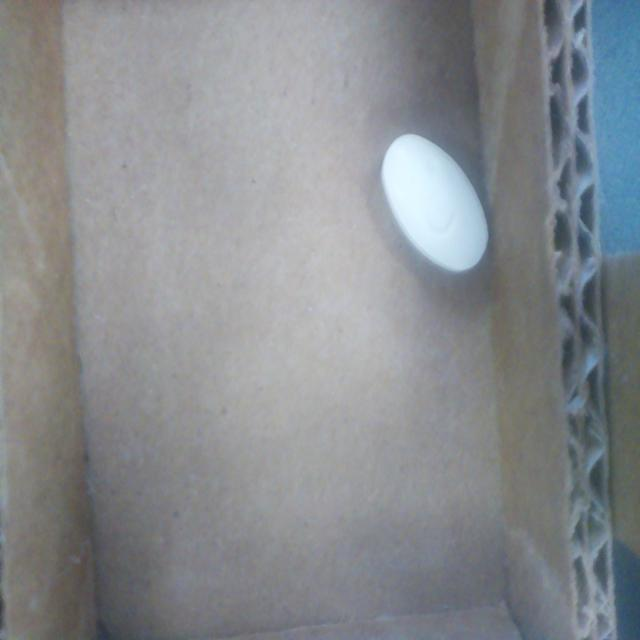pill: (382, 132, 490, 274)
